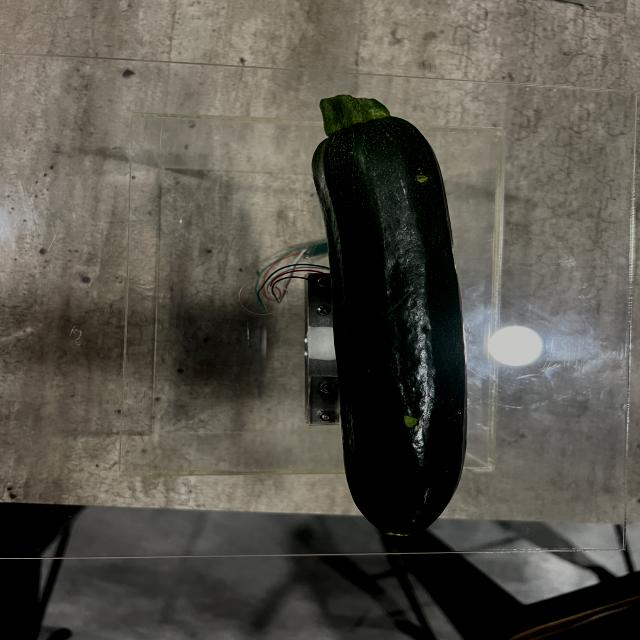zucchini: (310, 92, 467, 540)
